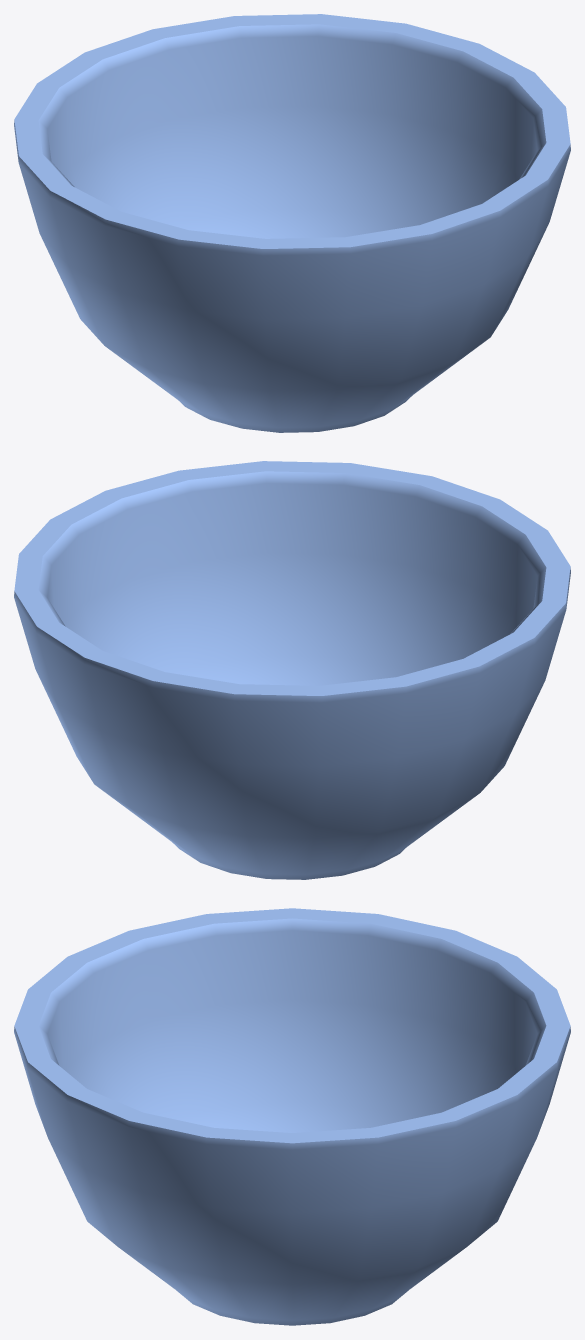
File: Tiny_bowl (1).fbx
3 renders of one model, top to bottom at view 1: azimuth 30°, elevation 25°; view 2: azimuth 150°, elevation 25°; view 3: azimuth 270°, elevation 25°, orthographic.
Visible parts, largest first — view 1: Tiny_bowl_obj; view 2: Tiny_bowl_obj; view 3: Tiny_bowl_obj.
Boxes of the visible parts, left/top/right/bottom form: Tiny_bowl_obj: left=14, top=14, right=570, bottom=432; Tiny_bowl_obj: left=14, top=461, right=570, bottom=879; Tiny_bowl_obj: left=14, top=908, right=570, bottom=1325.
Bounding box in the file's own units: 9.95 × 4.89 × 9.95.
